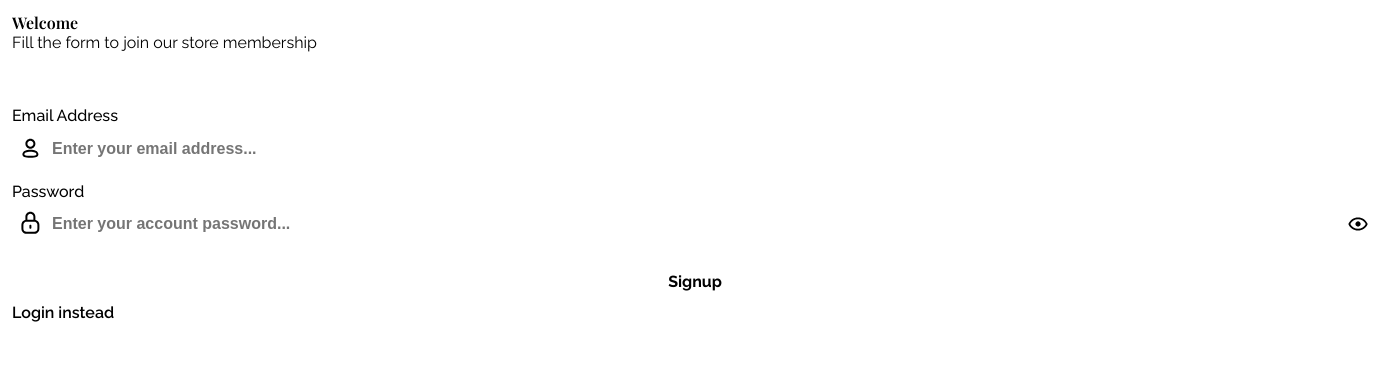
Test: Test Component : Signupform › if inputs are empty if click on the signup show error
This screenshot has width=1390, height=386.
Click the button with test id "signupformSignupButton". click: [695, 281]
box: left=12, top=265, right=1378, bottom=297
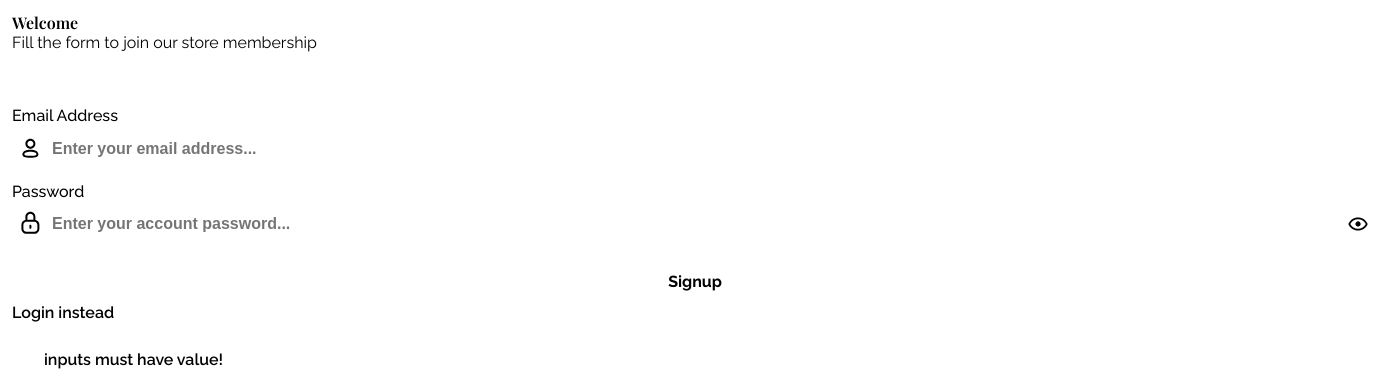
Now the element with test id "errorMessage" reads "inputs must have value!", box left=44, top=350, right=223, bottom=368
